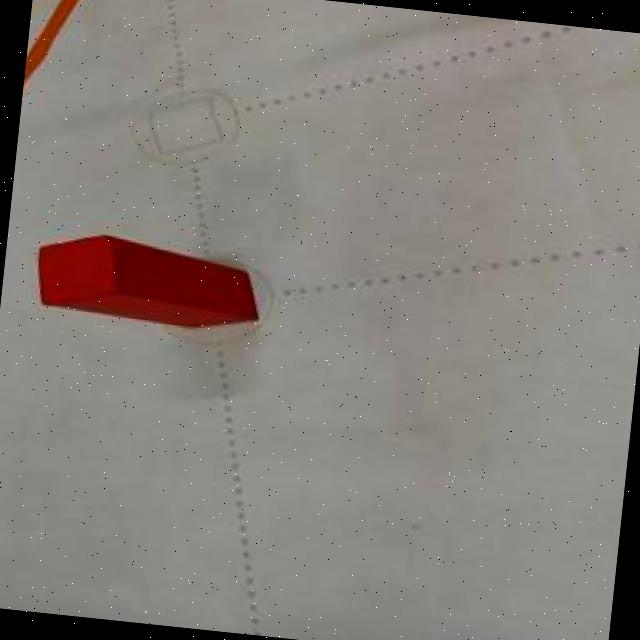redbox: (27, 225, 266, 334)
